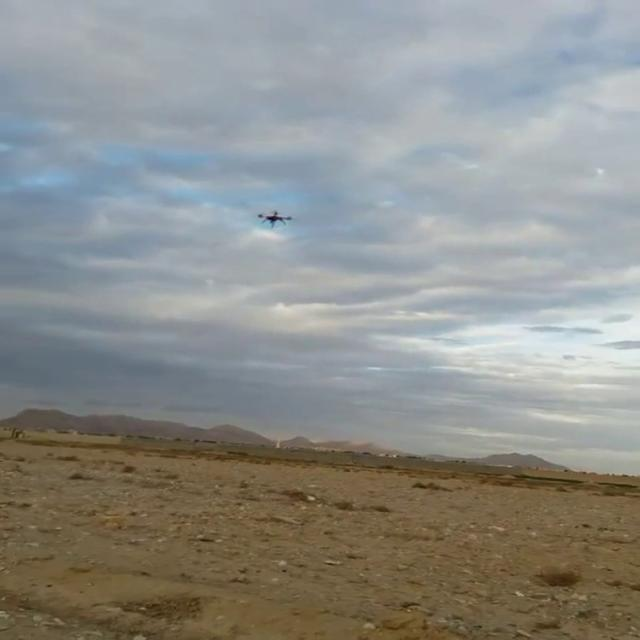drone: (250, 205, 298, 230)
